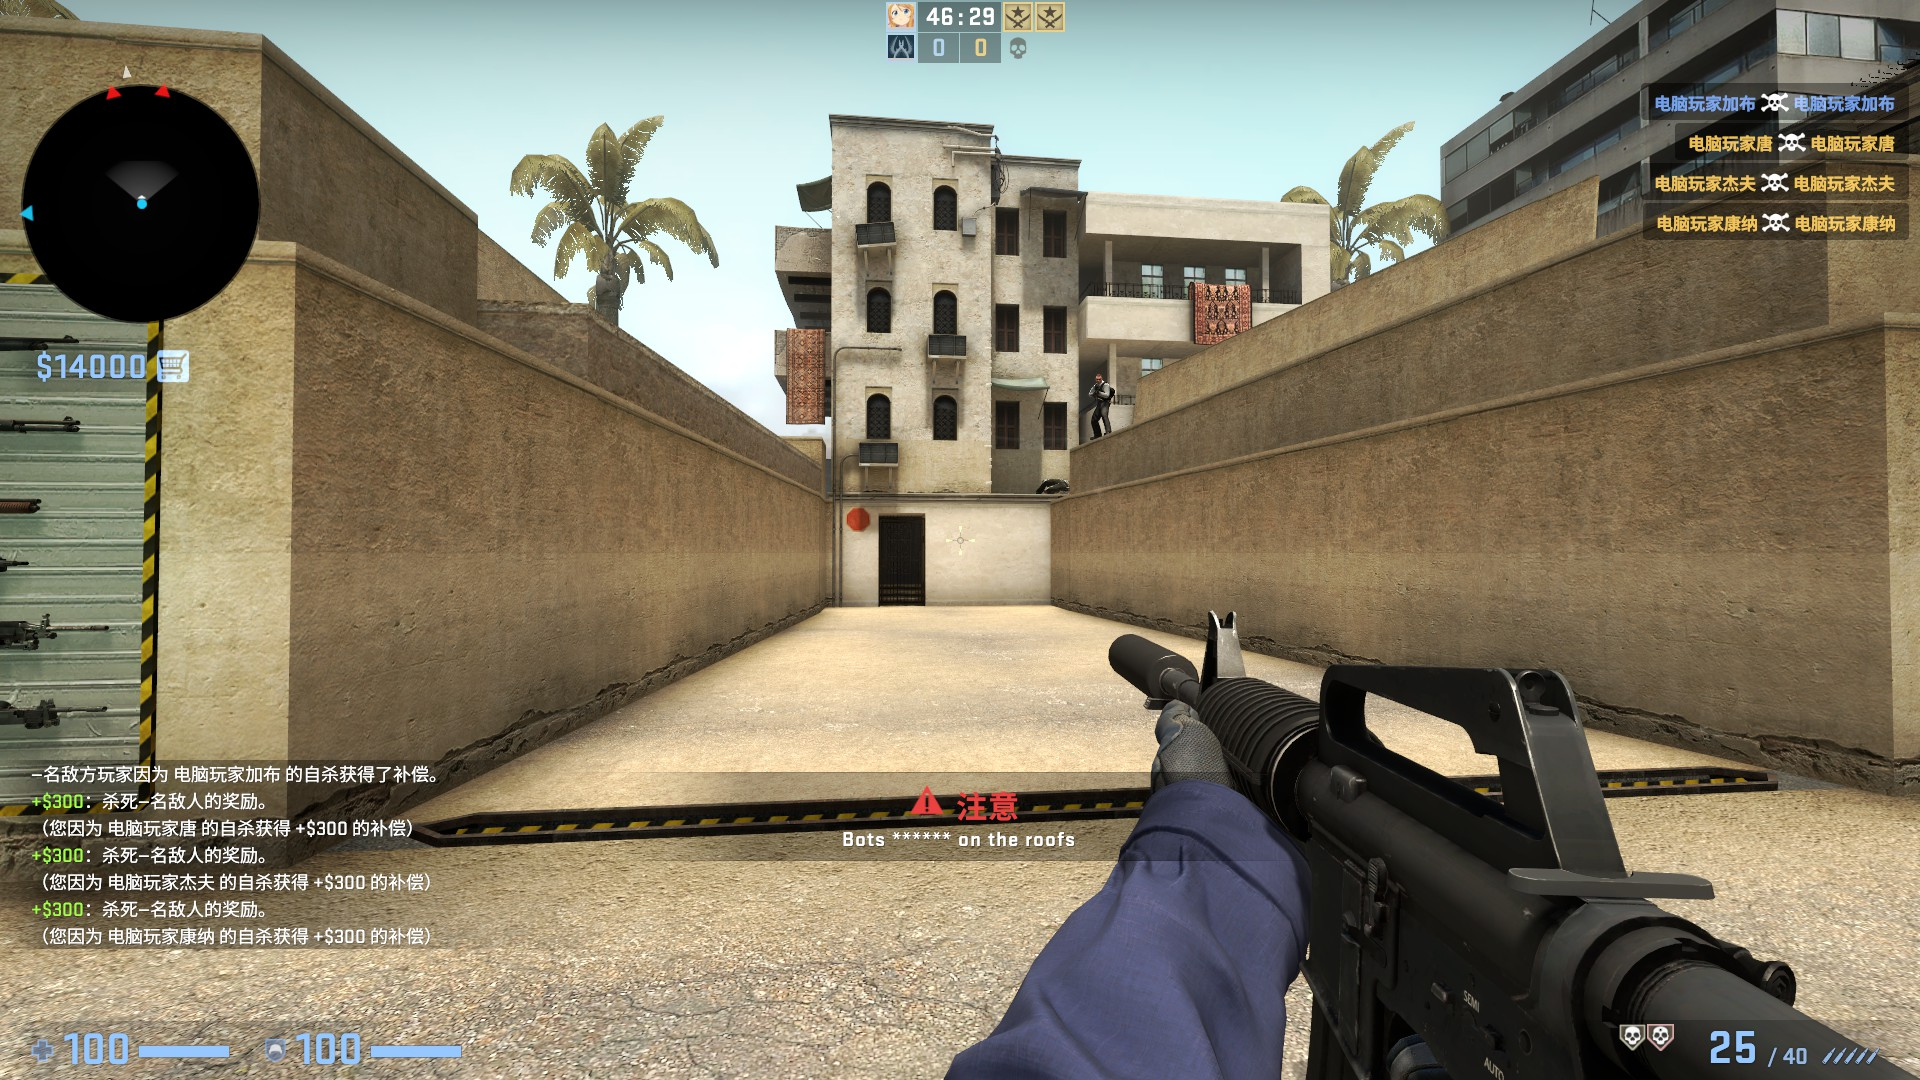head: (1093, 372, 1101, 383)
